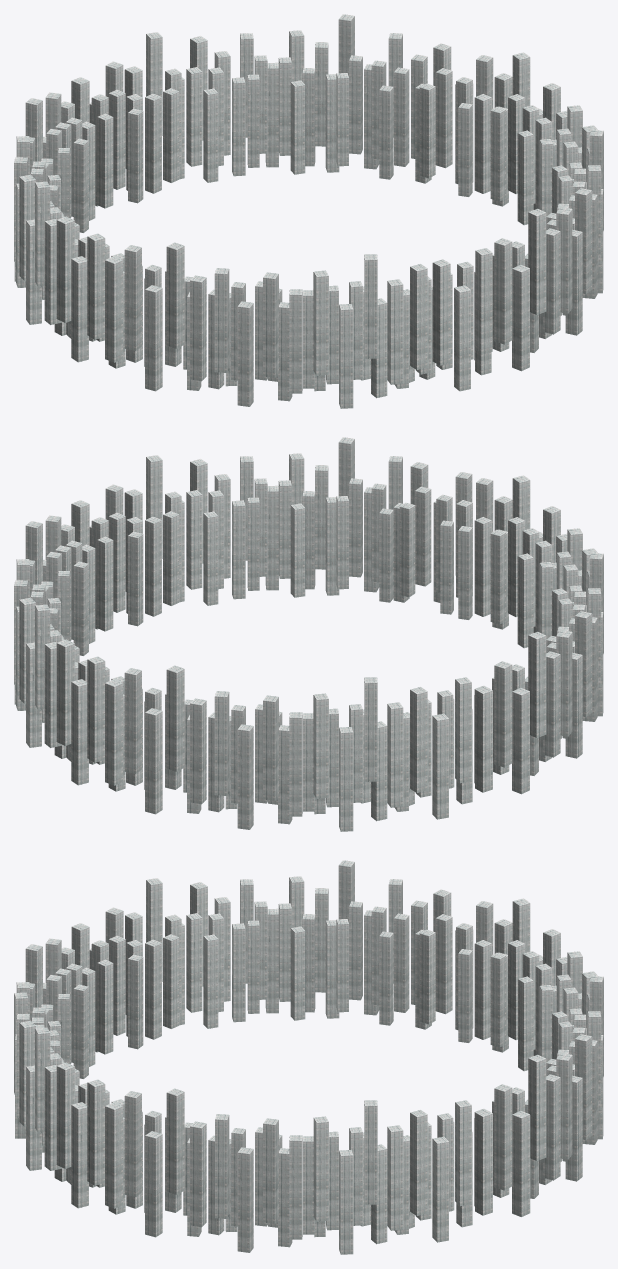
Rendered from buildings.fbx.
3 renders of one model, top to bottom at view 1: azimuth 30°, elevation 25°; view 2: azimuth 150°, elevation 25°; view 3: azimuth 270°, elevation 25°, orthographic.
Parts seen in each view (by area): view 1: buildings; view 2: buildings; view 3: buildings.
Boxes of the visible parts, bbox=[...] form: buildings: bbox=[14, 14, 603, 408]; buildings: bbox=[14, 437, 603, 831]; buildings: bbox=[14, 860, 603, 1254].
Size of the model in its own units: 9808 by 2692 by 9792.
